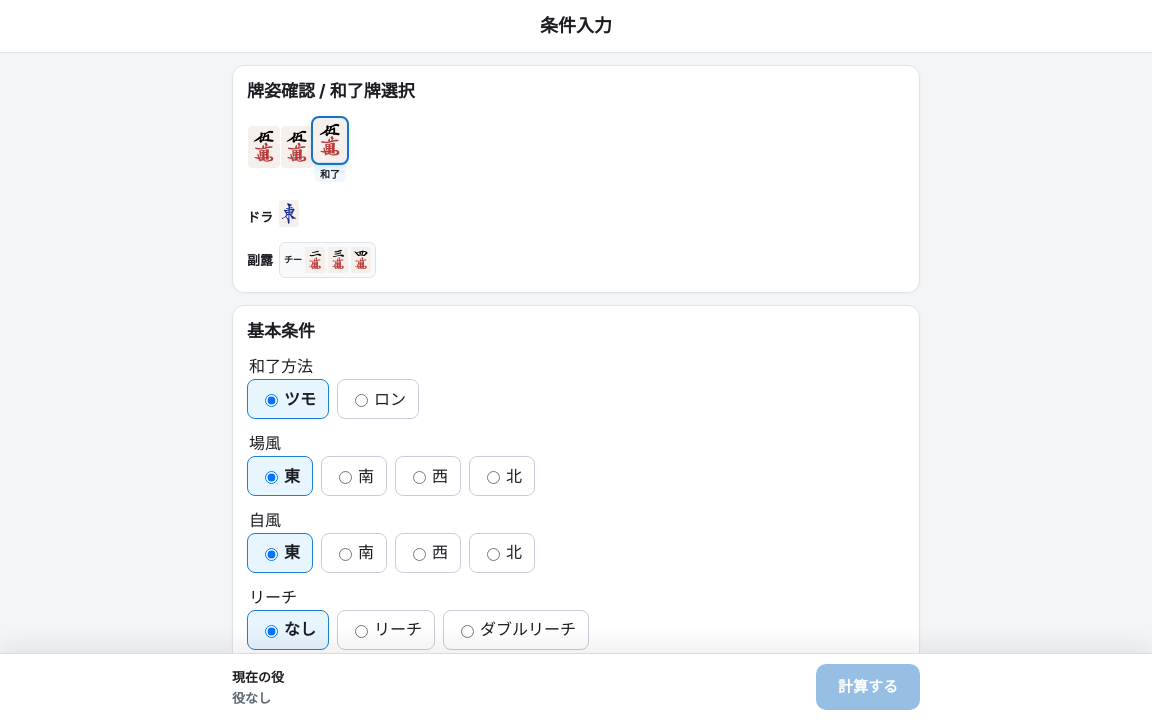
Test: ConditionsPageView › updates persistent yaku feedback and calculation availability after condition changes
The width and height of the screenshot is (1152, 720).
Expected: the message reads "役なし", [232,690,271,706]
Expected: the button "計算する" is disabled, [816,664,920,710]
What coordinates should you click on to do the following:
click the radio button labelled "リーチ"
I would click on:
 (362, 631)
Its box is [355,625,368,638].
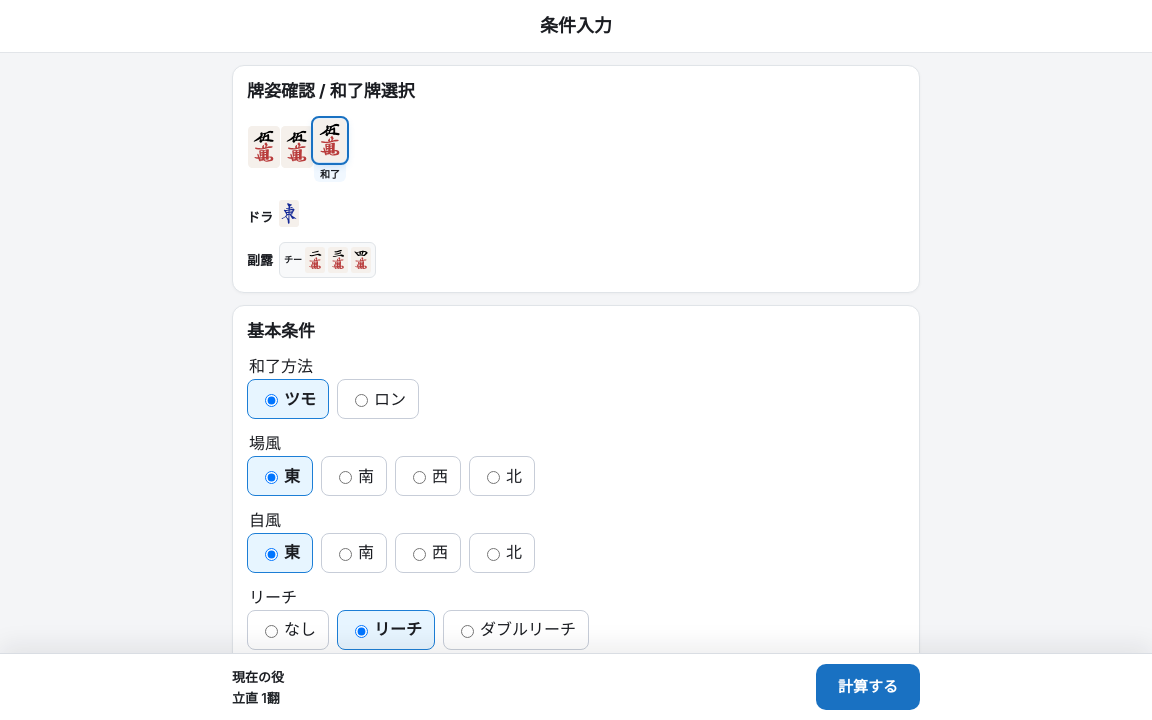
Now the message reads "立直 1翻", box [232,690,280,706]
Now the button "計算する" is enabled, box [816,664,920,710]
